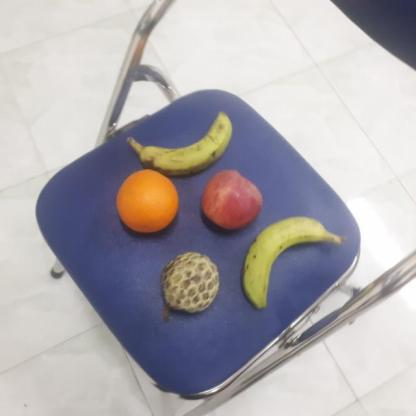annona: (158, 249, 223, 317)
apple: (114, 168, 181, 235), (198, 167, 266, 232)
banana: (239, 211, 328, 308), (134, 111, 233, 176)
